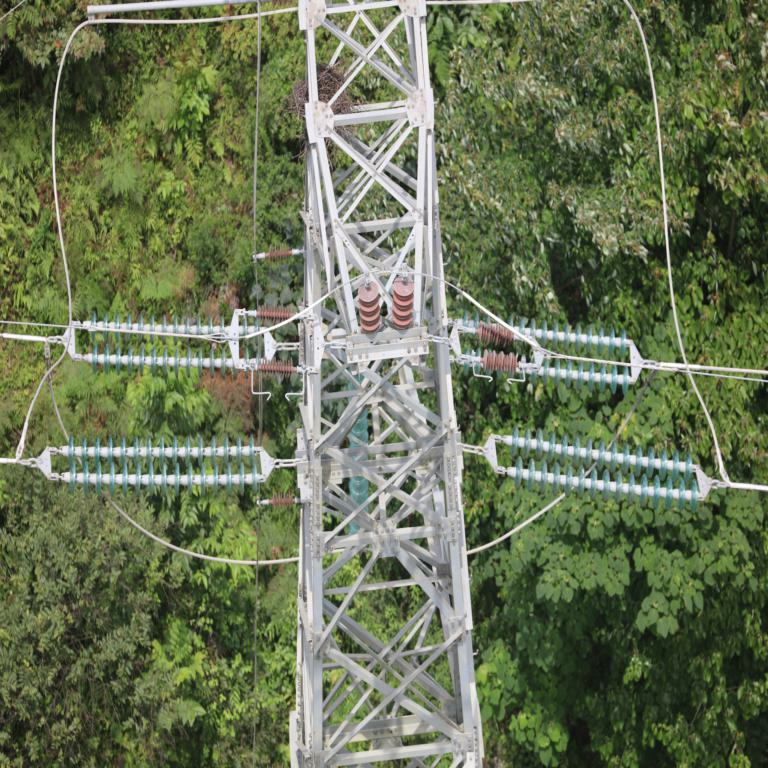nest: (292, 67, 347, 128)
